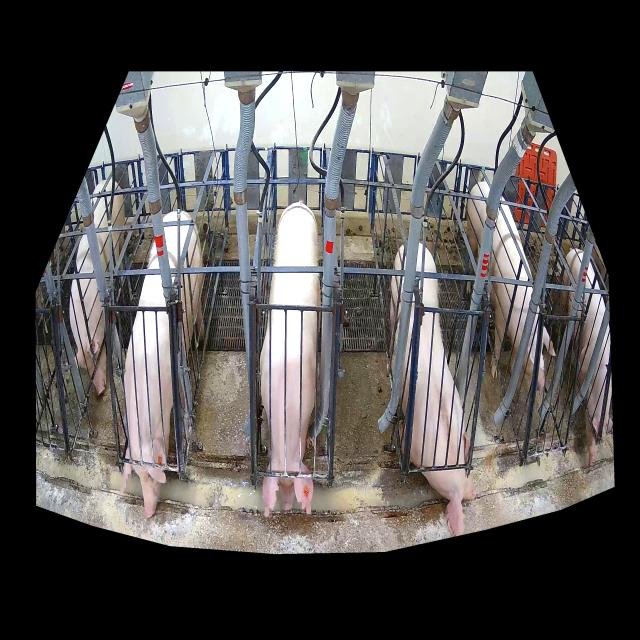pig: (389, 239, 476, 537), (121, 212, 204, 517), (259, 203, 321, 518), (466, 182, 556, 391), (69, 180, 127, 393), (560, 249, 614, 467)
